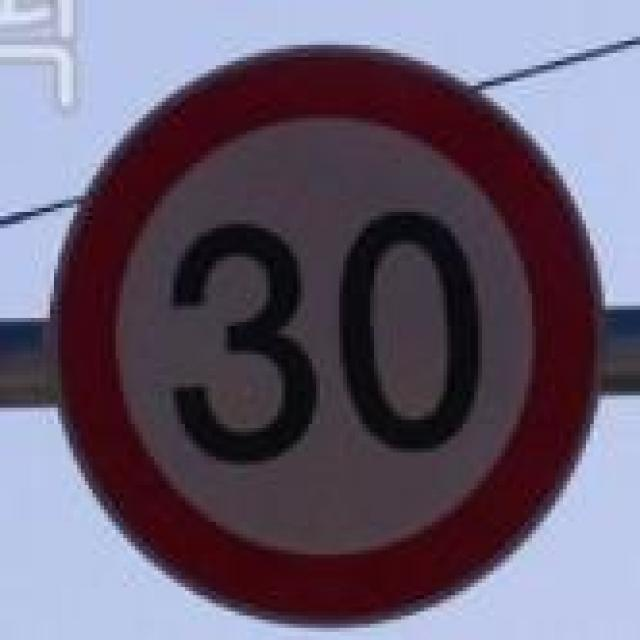traffic_sign: (50, 45, 598, 628)
